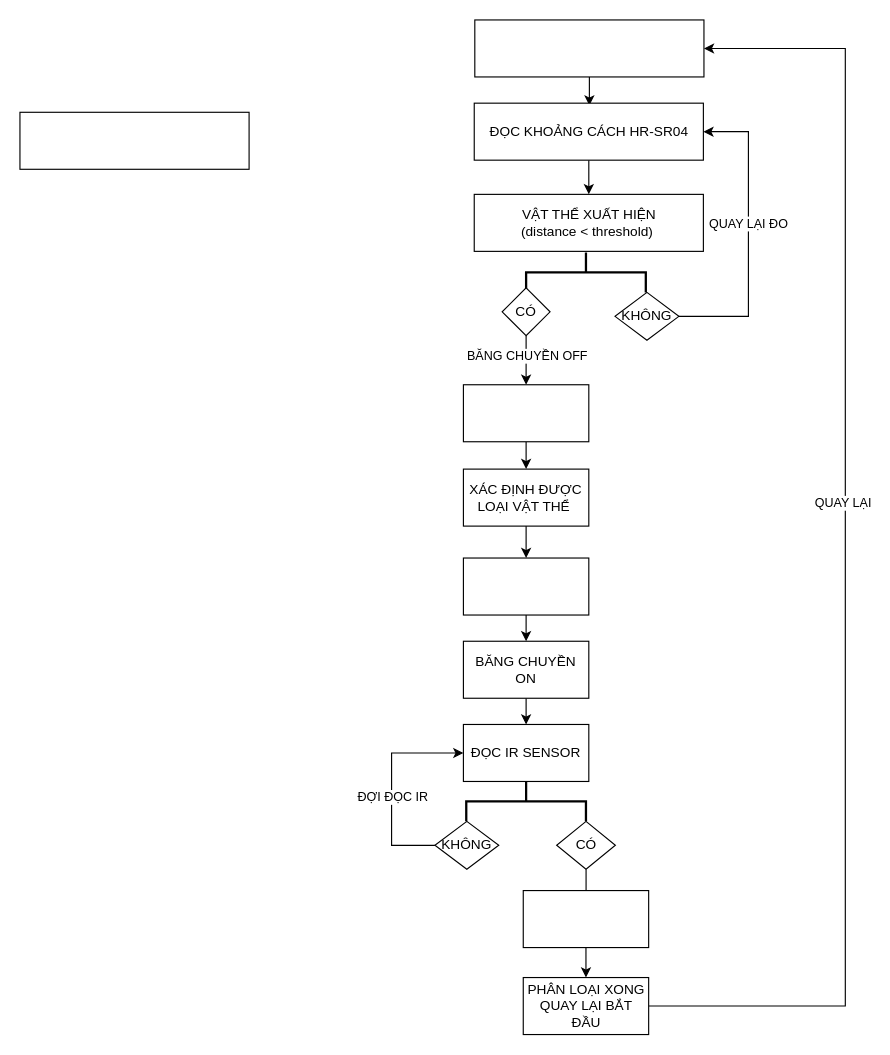
Some shapes in this 890 by 1055 pixel diagram are drawn without their labels. Each missing label, with the centre of its shape:
"BẮT ĐẦU" belongs at point (589, 48).
"GỌI CÁNH TAY ROBOT" belongs at point (585, 918).
"HIỆN THỊ LCD" belongs at point (525, 586).
"Object" belongs at point (134, 140).
"QUÉT VẬT THỂ VÀ GỌI GY-31" belongs at point (525, 413).
